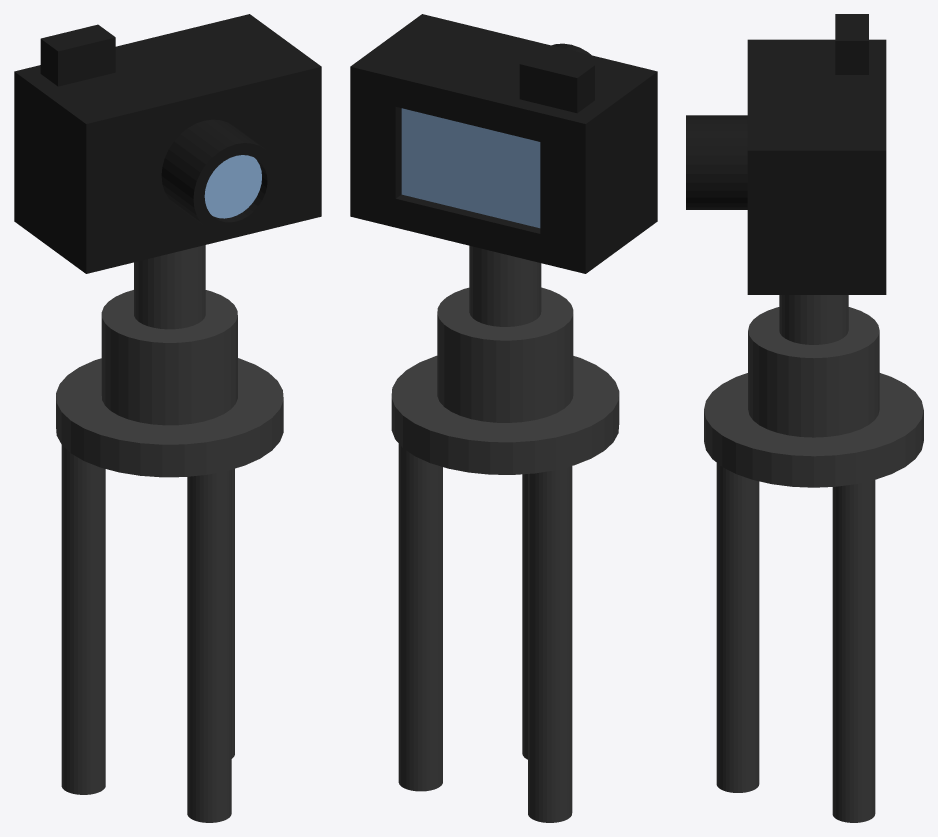
File: OF_Camera.fbx
The picture shows the model from 3 angles, left to right: view 1: azimuth 30°, elevation 25°; view 2: azimuth 150°, elevation 25°; view 3: azimuth 270°, elevation 25°; orthographic projection. The views are drawn at different scales.
Parts seen in each view (by area): view 1: Cube.012; view 2: Cube.012; view 3: Cube.012.
Part boxes in pixels (x1,y1,x2,y2): Cube.012: (14, 14, 321, 822); Cube.012: (350, 14, 657, 822); Cube.012: (686, 14, 923, 822).
Bounding box in the file's own units: 35.19 × 107 × 31.92.
